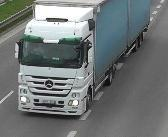truck: (14, 0, 151, 116)
